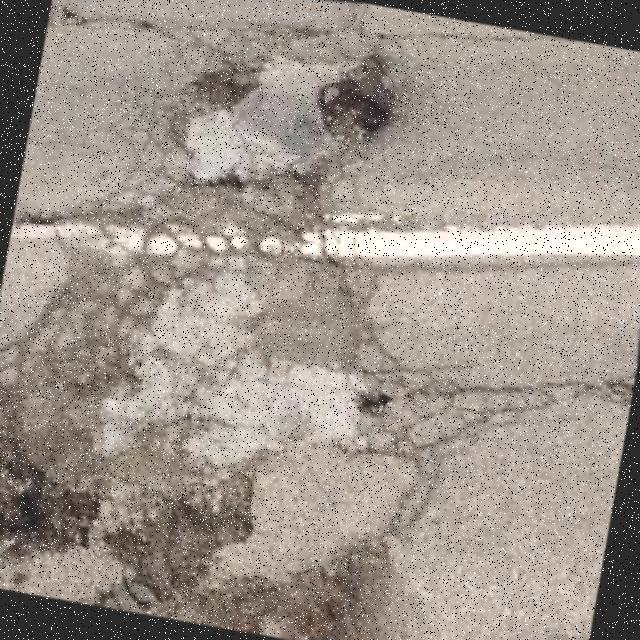Pothole: (103, 474, 254, 601), (0, 459, 98, 551), (322, 94, 387, 141)
